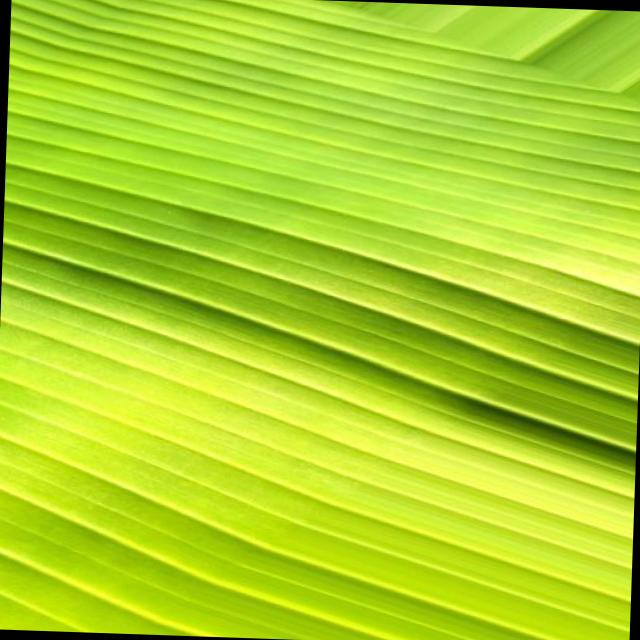Banana_Healthy: (121, 98, 538, 514)
